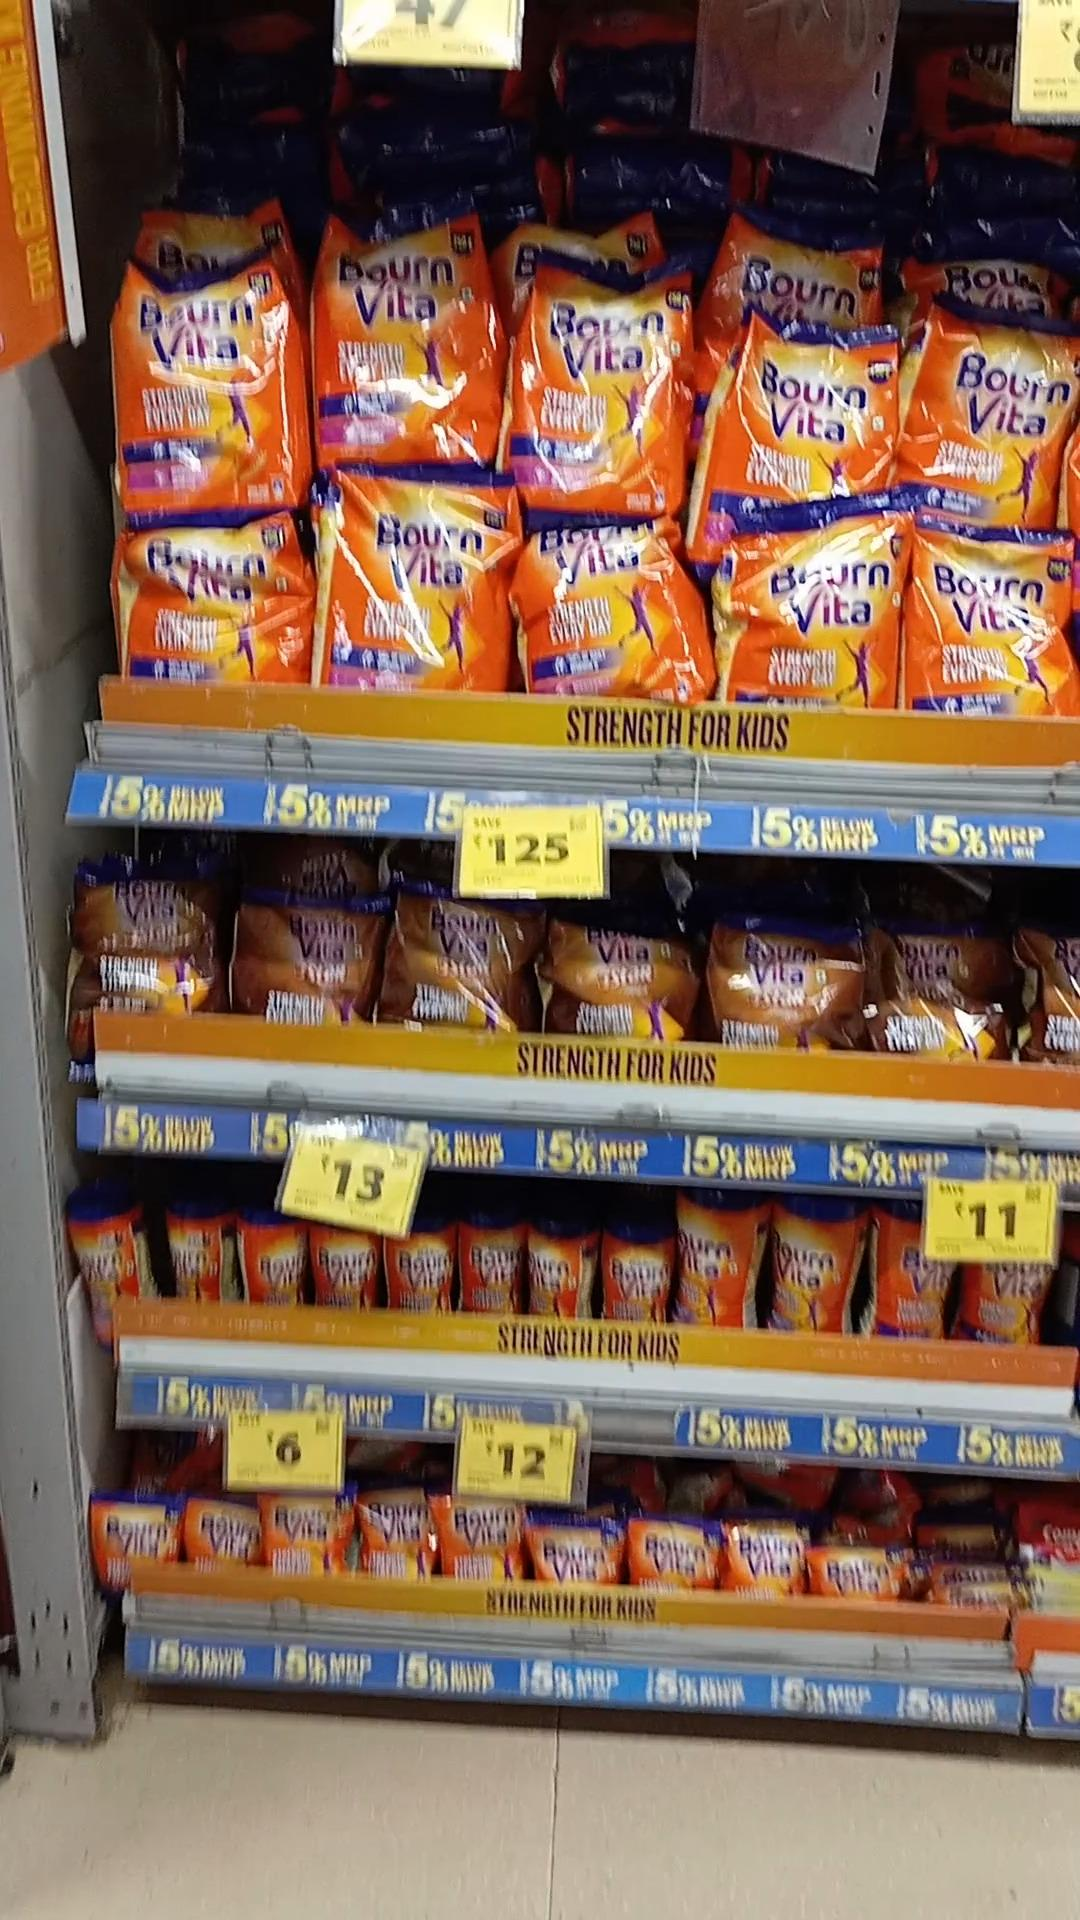BOURN_VITA_200_G_JAR: (67, 1203, 135, 1320), (386, 1213, 454, 1313), (604, 1226, 667, 1329), (245, 1200, 303, 1308), (311, 1215, 376, 1311), (462, 1212, 521, 1315), (526, 1213, 580, 1323), (161, 1205, 220, 1304)
BOURN_VITA_500_G_JAR: (770, 1191, 845, 1337), (880, 1199, 960, 1332), (674, 1185, 745, 1327)
BOURN_VITA_750_G_POUCH: (111, 260, 285, 525), (319, 216, 488, 460), (524, 265, 678, 516), (334, 465, 501, 695), (909, 516, 1080, 719), (915, 305, 1080, 514), (732, 509, 891, 711), (728, 318, 893, 501), (521, 521, 684, 696), (124, 530, 301, 687)
BOURN_VITA_75_G_POUCH: (628, 1514, 716, 1594), (262, 1490, 344, 1576), (434, 1495, 518, 1577), (90, 1491, 175, 1569), (526, 1515, 618, 1586), (724, 1518, 800, 1601), (357, 1490, 427, 1580), (179, 1499, 257, 1560)
BOURN_VITA_FIVE_STAR_MAGIC_500_G_POUCH: (70, 862, 204, 1026), (392, 882, 524, 1033), (712, 916, 852, 1050), (236, 890, 371, 1027), (873, 928, 1009, 1063), (549, 913, 684, 1044)
